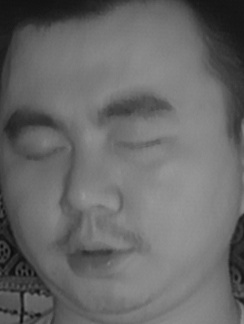blink: (116, 121, 164, 160), (17, 133, 66, 170)
mouth: (59, 224, 142, 280)
